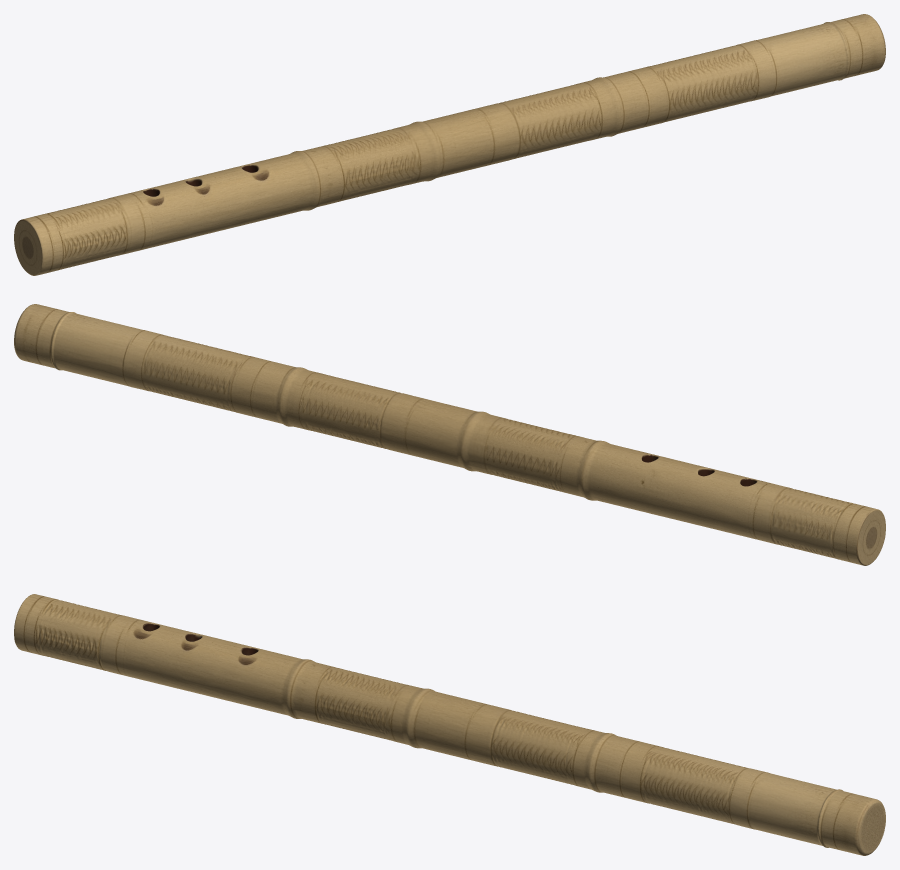
Rendered from apayao-tungali.glb.
3 views of the same model, one above another, from view 1: azimuth 30°, elevation 25°; view 2: azimuth 150°, elevation 25°; view 3: azimuth 330°, elevation 25° (orthographic).
Bounding box in the file's own units: 1.9 × 0.1185 × 0.119.
1 material, 1 textured.
